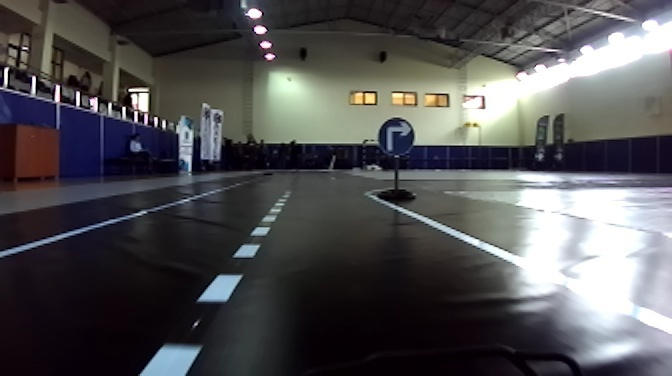saga_donus: (377, 117, 417, 157)
